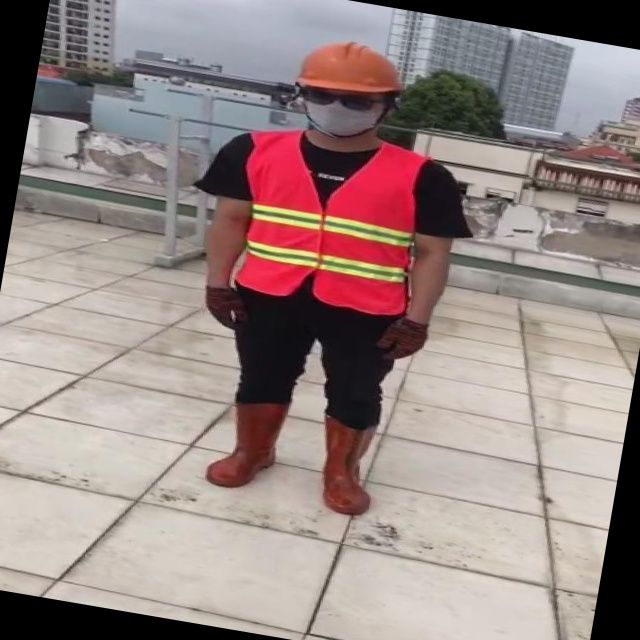boots: (232, 410, 302, 499), (342, 411, 404, 508)
gloves: (376, 290, 434, 370), (190, 288, 243, 360)
helmet: (254, 39, 366, 94)
vest: (226, 135, 402, 304)
